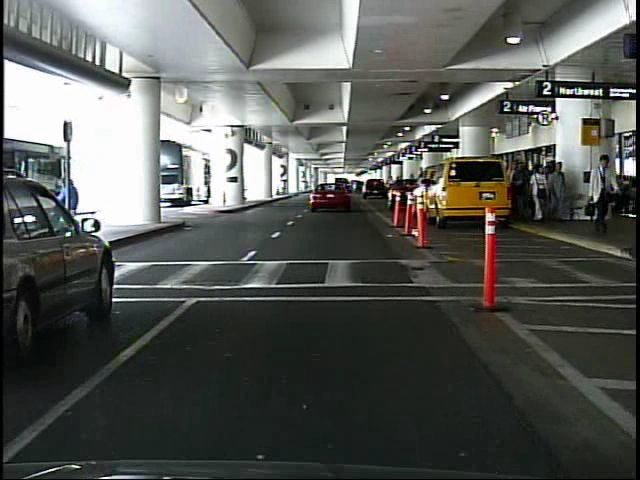person: (584, 153, 621, 234), (547, 160, 569, 222), (531, 161, 550, 224)
